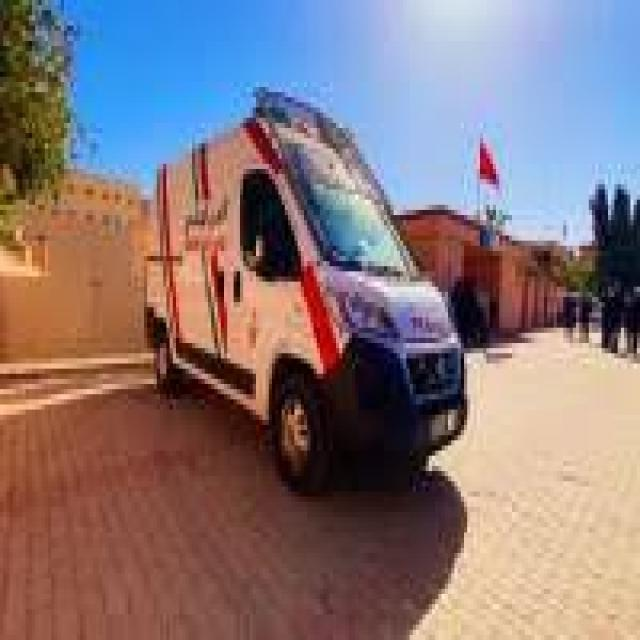Police car: (141, 74, 471, 518)
